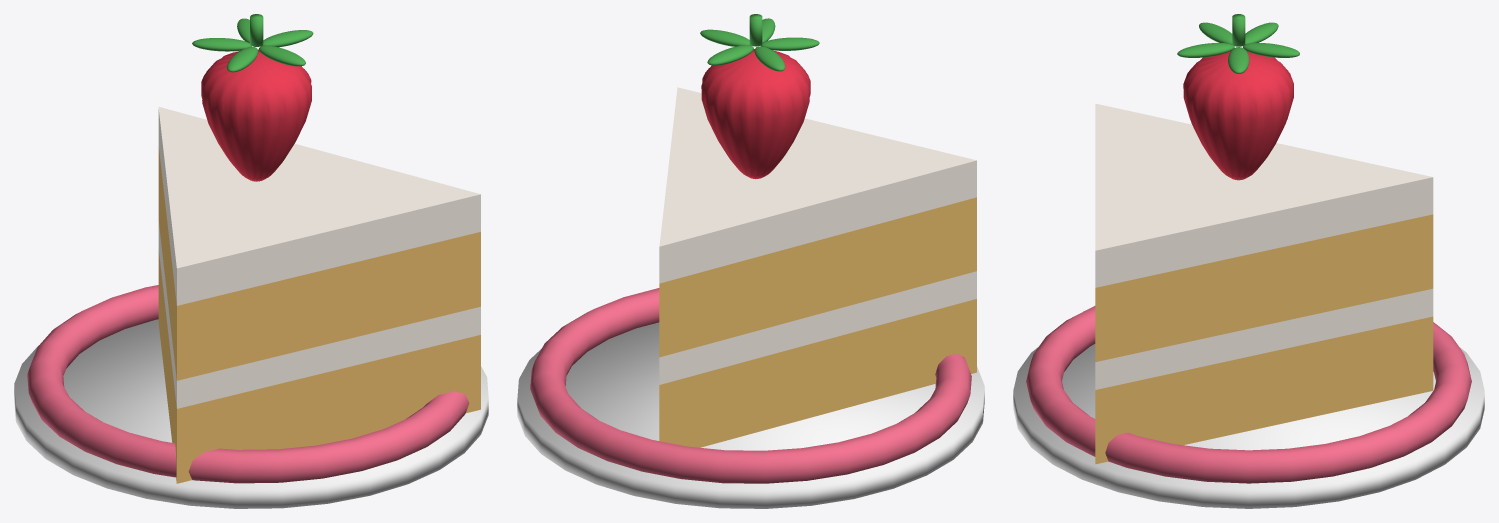
The model's file is OrderSlice.fbx.
The picture shows the model from 3 angles, left to right: view 1: azimuth 30°, elevation 25°; view 2: azimuth 150°, elevation 25°; view 3: azimuth 270°, elevation 25°; orthographic projection.
Visible parts, largest first — view 1: OrderSlice; view 2: OrderSlice; view 3: OrderSlice.
Boxes of the visible parts, x1=… form: OrderSlice: x1=14, y1=14, x2=488, y2=508; OrderSlice: x1=517, y1=14, x2=984, y2=508; OrderSlice: x1=1013, y1=14, x2=1484, y2=508.
Bounding box in the file's own units: 0.92 × 0.8454 × 0.92.
